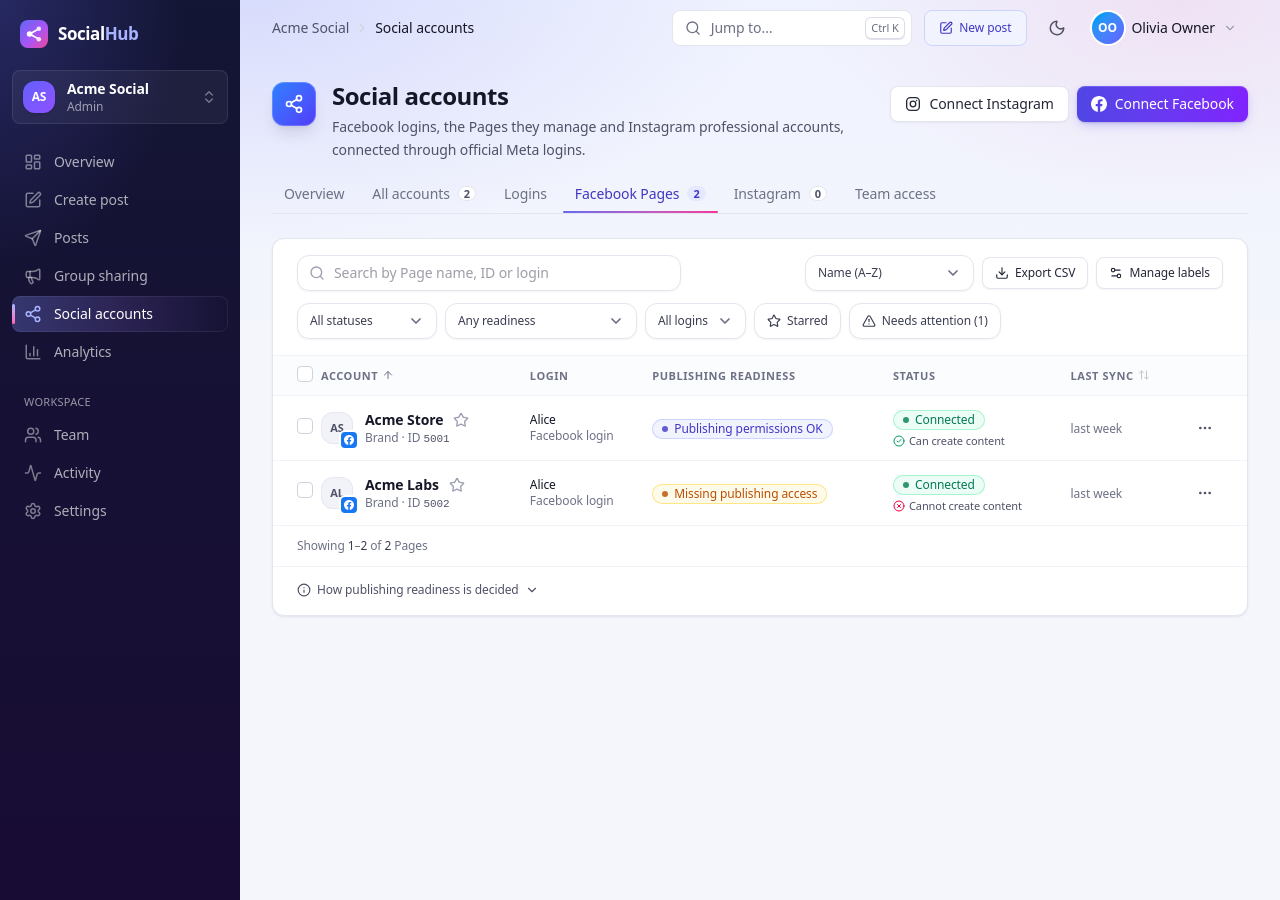
it: Facebook Pages tab › refreshes the selected Pages and shows what each login reported
Click the checkbox named "Select Acme Store".
click(305, 426)  # box [297,418,313,434]
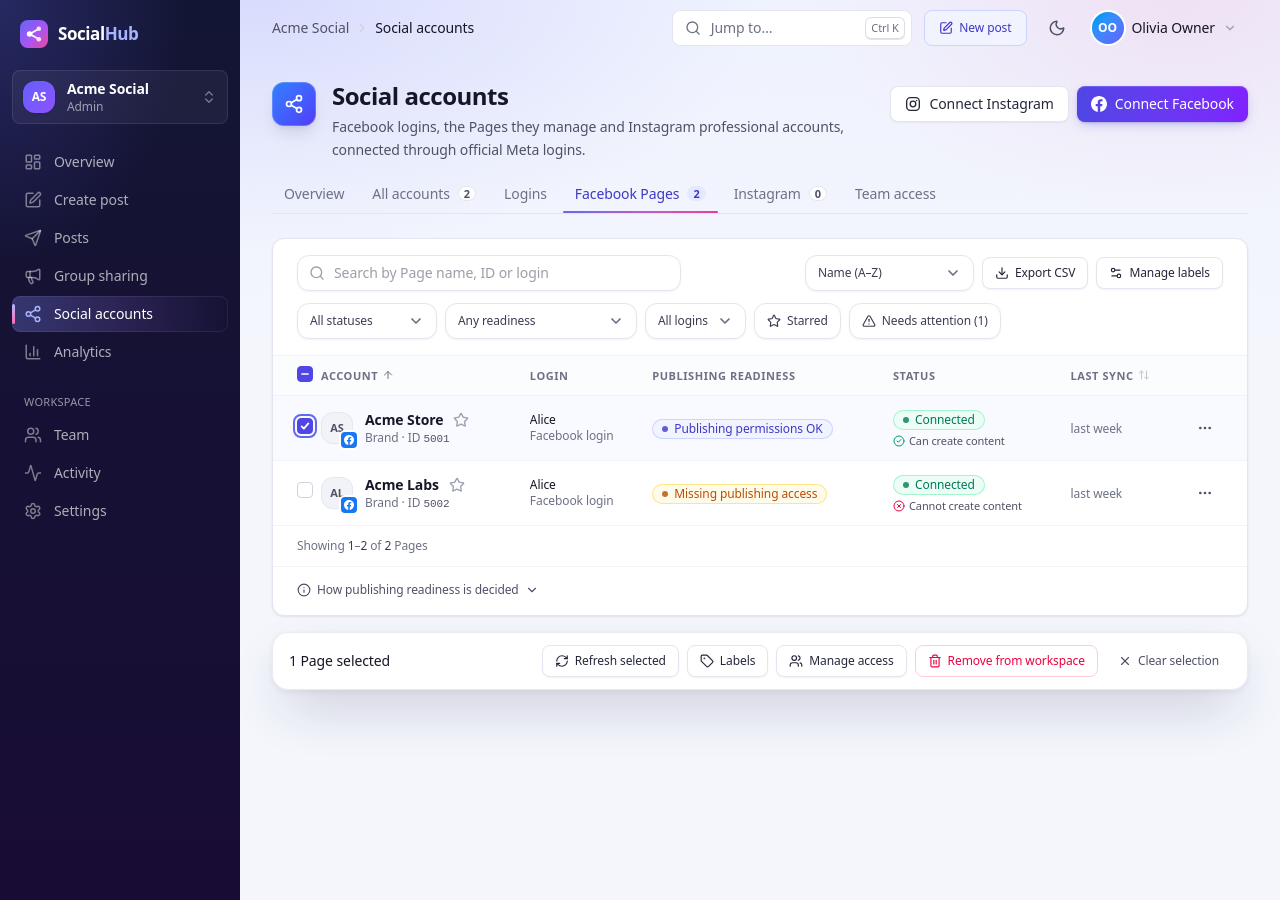
Click the checkbox named "Select Acme Labs".
click(305, 490)  # box [297,482,313,498]
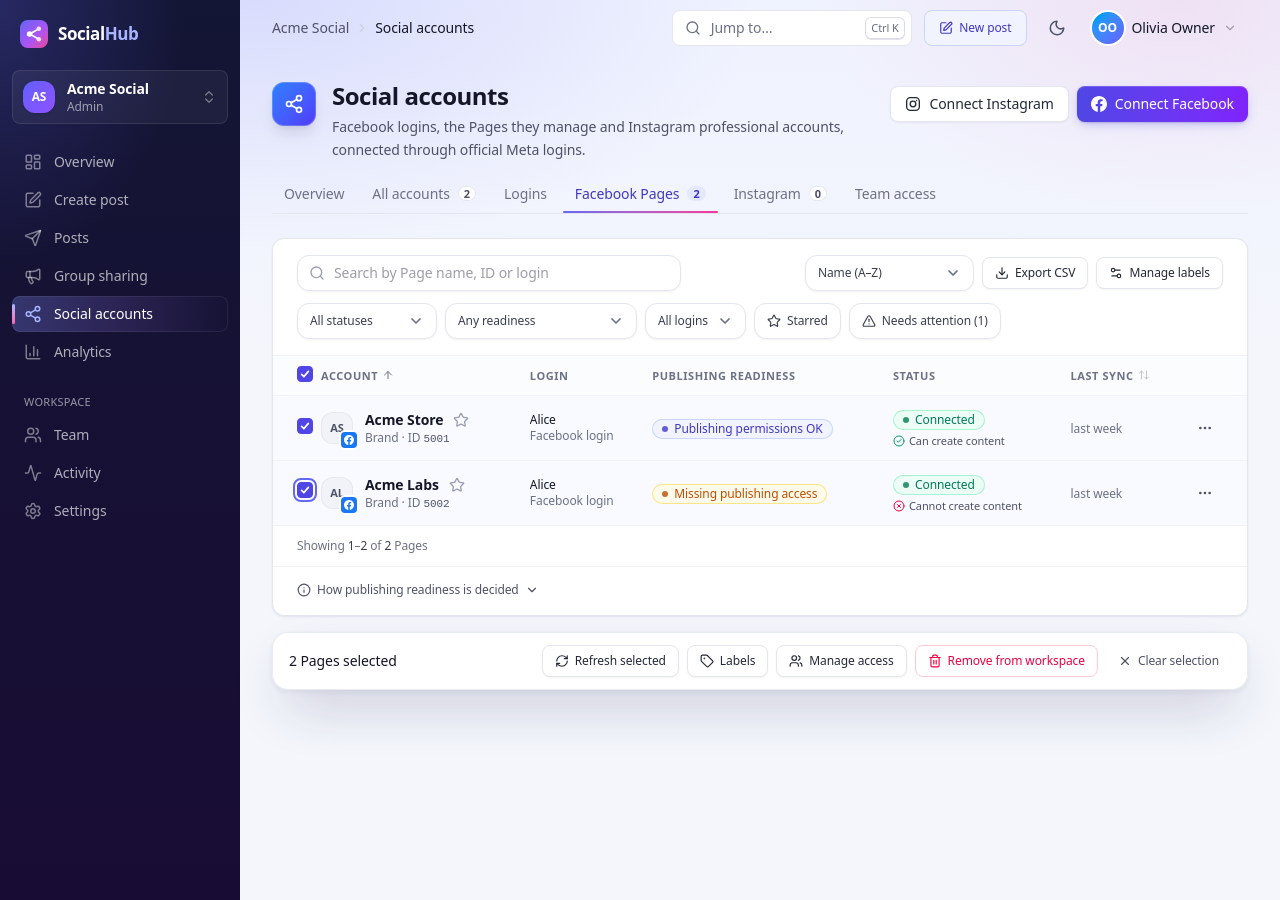
expect the element named "Bulk actions" shows "2 Pages selected": met, box [272,632,1248,690]
Click the button "Refresh selected".
click(610, 661)  # box [542,645,679,677]
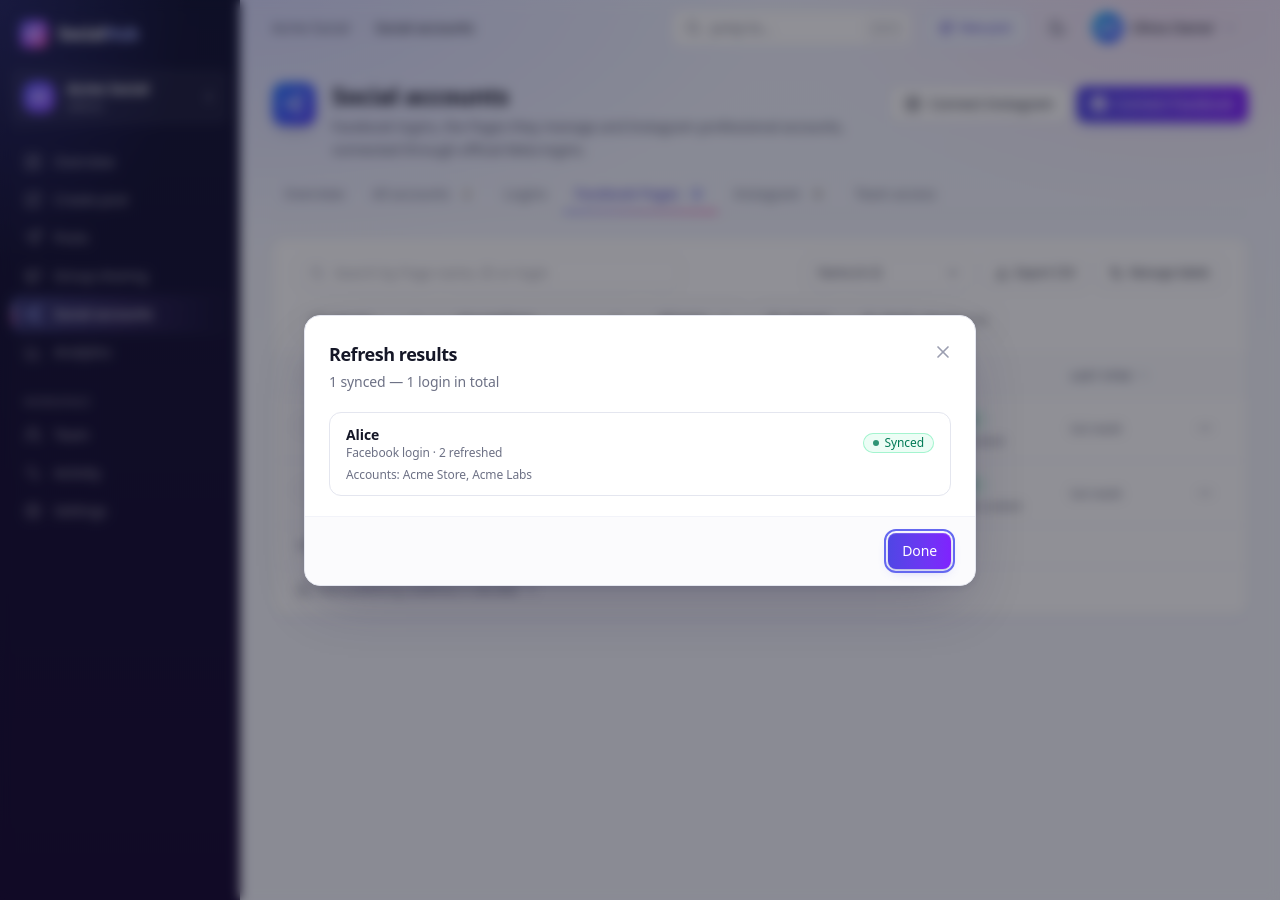
expect the text "Alice" is shown: met, box [346,424,379,444]
expect the text "Accounts: Acme Store, Acme Labs" is shown: met, box [346,466,532,482]
